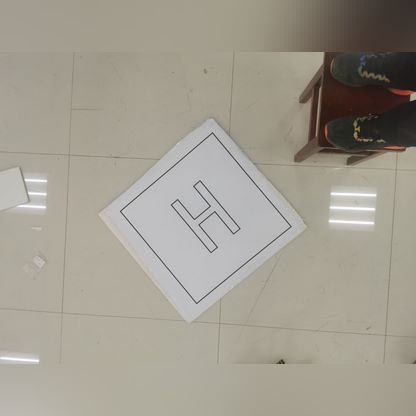H: (160, 171, 255, 259)
